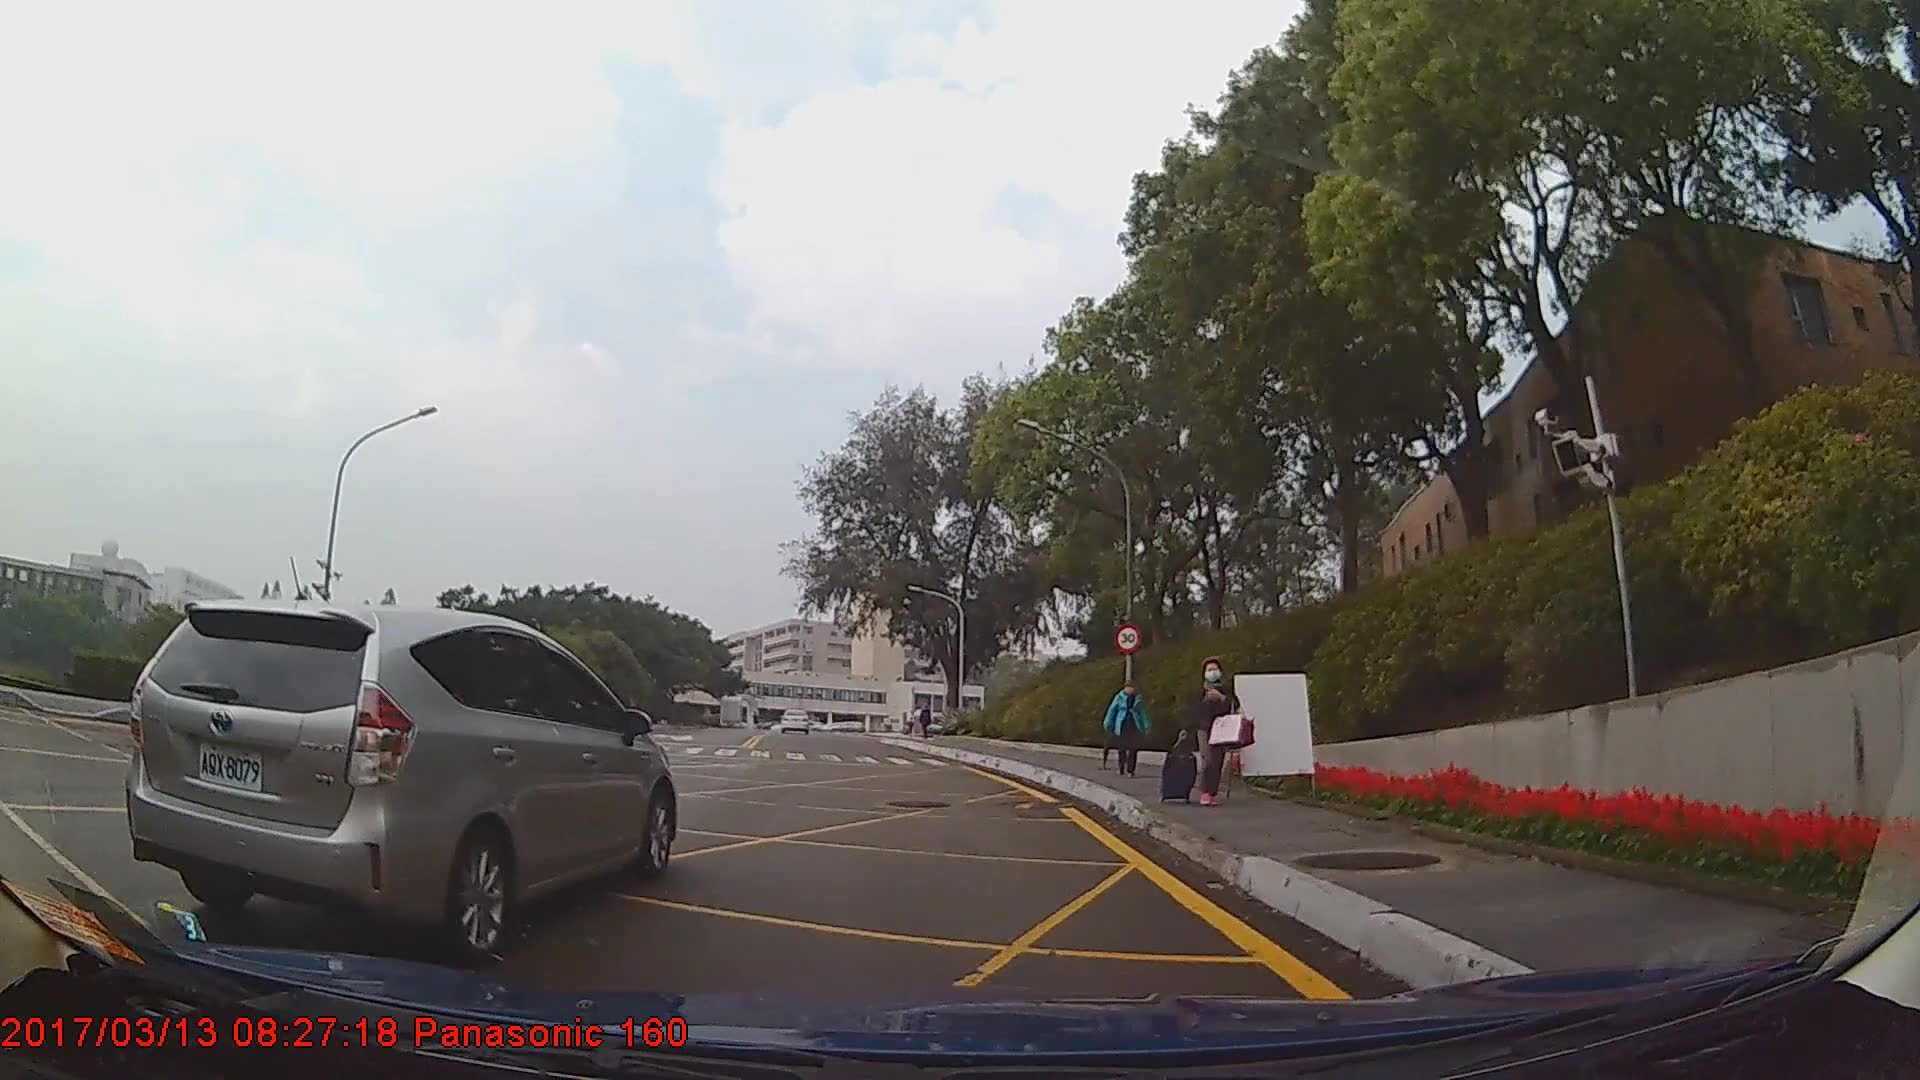pedestrian: (1162, 655, 1258, 813), (1106, 681, 1152, 782)
vehicle: (123, 598, 679, 961), (777, 702, 809, 734)
